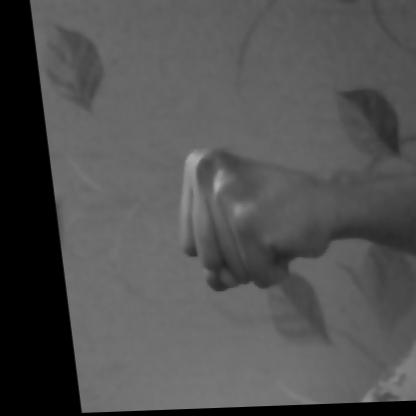fist: (154, 124, 374, 312)
